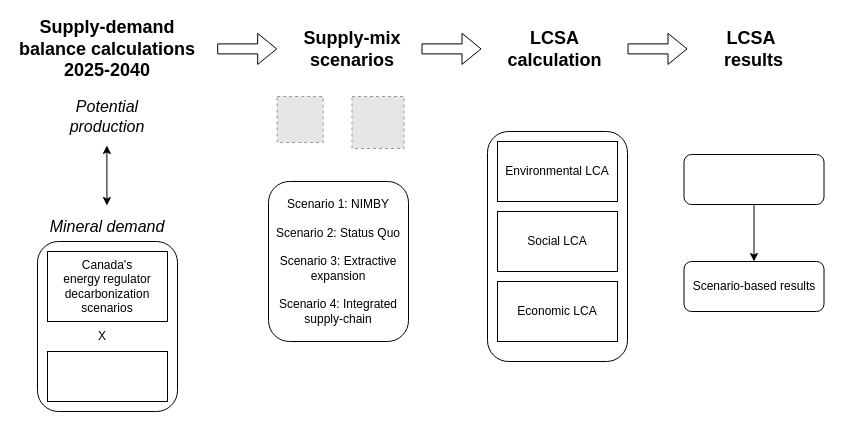
This 841x429 diagram has some shape labels left out. Grey dashed boxes stand in for pictures. Here are the shapes that lost their labels. From the top down, the centre of each, then its label:
At (x=753, y=179): "Unit-based results".
At (x=107, y=376): "Metal intensity per subtechnologies".
